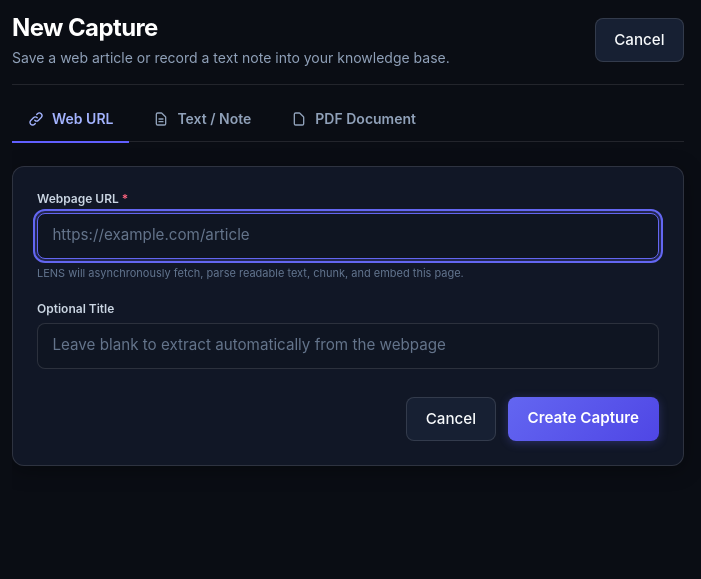
Test: Captures Management & Creation (Tests 4-12) › 11. displays specific validation message when backend returns 422
Type "https://example.com" into the field labelled "Webpage URL *" at (348, 236), box [37,213,659,259]
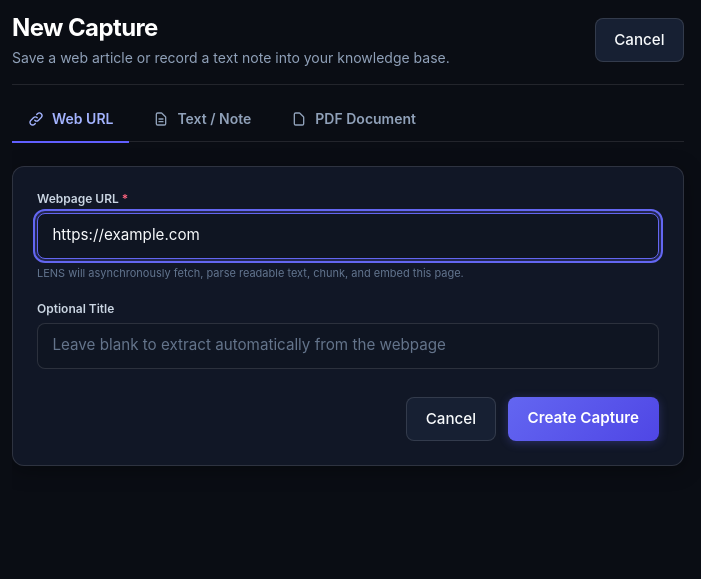
Click the button with test id "submit-capture-btn" at (583, 419), box [508,397,659,441]
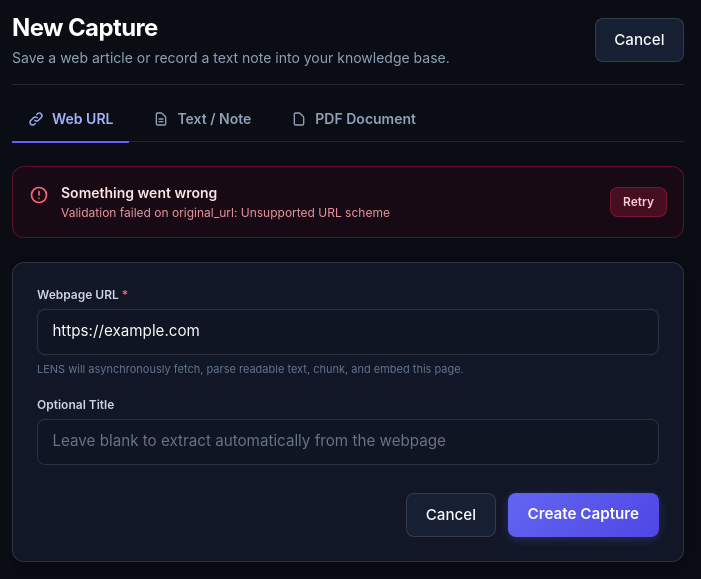
Expected: the text "Validation failed on original_url: Unsupported URL scheme" is shown, [61,205,390,221]
